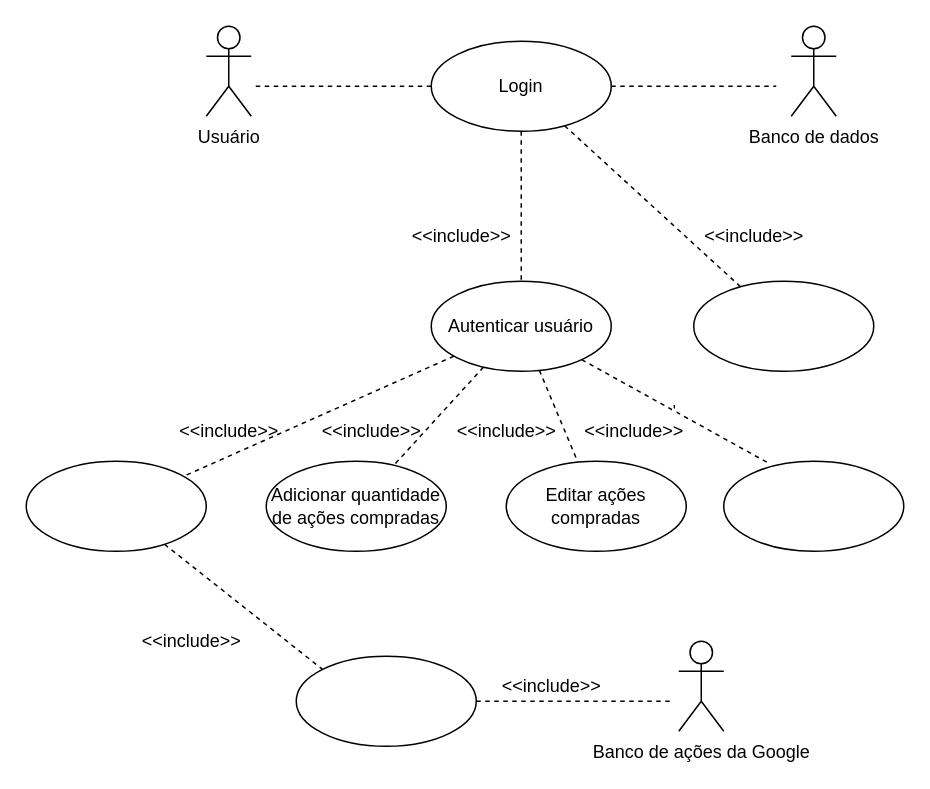
Some shapes in this 930 by 789 pixel diagram are drawn without their labels. Here are the shapes that lost their labels. From the top down, the box of each, then its label:
(692, 280, 874, 371): Criar nova conta
(25, 460, 206, 551): Adicionar ação financeira
(722, 460, 904, 551): Remover ações
(295, 655, 476, 746): Carteira de investimentos
